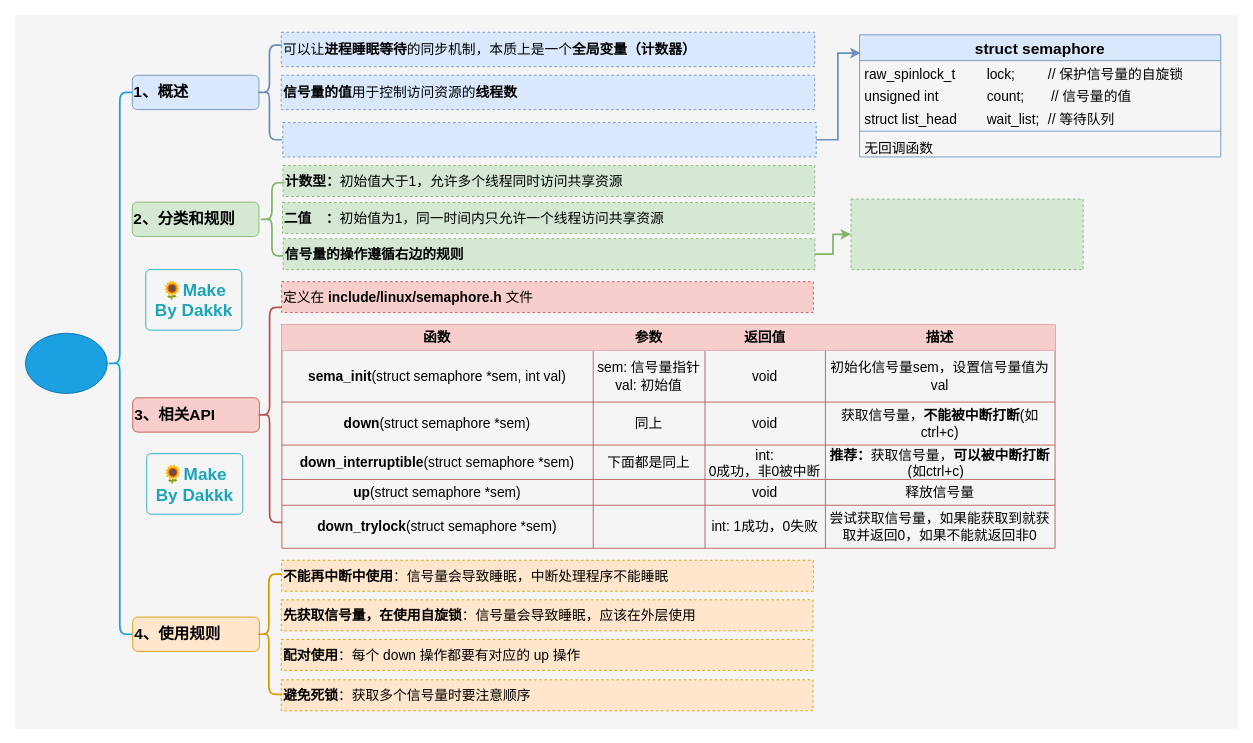
Some shapes in this 1253 by 743 pixel diagram are drawn without their labels. The centre of each missing label's shape, as x and y in pixels:
使用 semaphore结构体 来表示，定义在 include/linux/semaphore.h 中: (x=549, y=139)
信号量: (x=66, y=362)
申请资源时： 信号量执行"减一"操作 释放资源时： 信号量执行"加一"操作 资源不足时： 进程进入睡眠等待状态 资源可用时： 唤醒等待的进程: (x=966, y=234)
